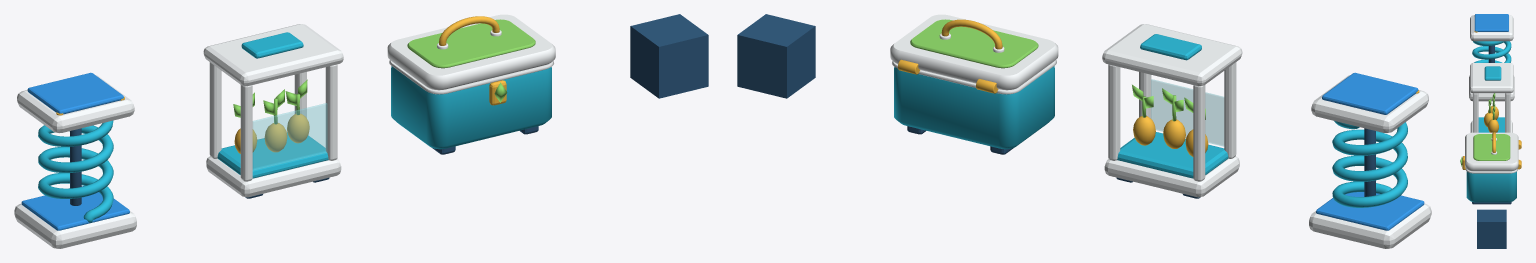
File: pop-a-peg-blender-pilots.glb
3 renders of one model, left to right at view 1: azimuth 30°, elevation 25°; view 2: azimuth 150°, elevation 25°; view 3: azimuth 270°, elevation 25°, orthographic. The views are drawn at different scales.
Visible parts, largest first — view 1: chest_common__MeadowBody_export, seed_bank__SeedBank_Frame_export, calibration__Calibration_1Stud_export, chest_common__PearlLid_export, seed_bank__SeedBank_Cap_export, spring_coil__ContinuousWaveCoil_export, seed_bank__SeedBank_Window_export, chest_common__MeadowLidInset_export, seed_bank__SeedBank_Reservoir_export, spring_coil__BlueImpactPad_export, spring_coil__PearlFoot_export, spring_coil__PearlImpactCap_export (+7 smaller); view 2: chest_common__MeadowBody_export, seed_bank__SeedBank_Frame_export, calibration__Calibration_1Stud_export, seed_bank__SeedBank_Cap_export, chest_common__PearlLid_export, spring_coil__ContinuousWaveCoil_export, chest_common__MeadowLidInset_export, seed_bank__SeedBank_Reservoir_export, spring_coil__BlueImpactPad_export, spring_coil__PearlFoot_export, spring_coil__PearlImpactCap_export, seed_bank__SeedBank_Window_export (+8 smaller); view 3: chest_common__MeadowBody_export, calibration__Calibration_1Stud_export, chest_common__PearlLid_export, seed_bank__SeedBank_Cap_export, chest_common__MeadowLidInset_export, spring_coil__ContinuousWaveCoil_export, spring_coil__BlueImpactPad_export, spring_coil__PearlImpactCap_export, seed_bank__SeedBank_Frame_export, spring_coil__PearlFoot_export, seed_bank__SeedBank_Pods_export, seed_bank__SeedBank_Grip_export (+7 smaller).
Part boxes in pixels (x1,y1,x2,y2): chest_common__MeadowBody_export: (391,66,551,149); seed_bank__SeedBank_Frame_export: (206,62,341,197); calibration__Calibration_1Stud_export: (630,14,708,98); chest_common__PearlLid_export: (387,14,555,90); seed_bank__SeedBank_Cap_export: (203,24,343,86); spring_coil__ContinuousWaveCoil_export: (38,120,113,222); seed_bank__SeedBank_Window_export: (253,103,327,170); chest_common__MeadowLidInset_export: (407,19,535,68); seed_bank__SeedBank_Reservoir_export: (217,132,328,178); spring_coil__BlueImpactPad_export: (27,72,123,114); spring_coil__PearlFoot_export: (14,203,136,248); spring_coil__PearlImpactCap_export: (17,75,134,133); chest_common__MeadowBody_export: (894,66,1054,149); seed_bank__SeedBank_Frame_export: (1104,62,1239,197); calibration__Calibration_1Stud_export: (737,14,815,98); seed_bank__SeedBank_Cap_export: (1102,24,1242,86); chest_common__PearlLid_export: (890,14,1058,90); spring_coil__ContinuousWaveCoil_export: (1332,121,1407,207); chest_common__MeadowLidInset_export: (910,19,1038,68); seed_bank__SeedBank_Reservoir_export: (1117,132,1228,178); spring_coil__BlueImpactPad_export: (1322,72,1418,114); spring_coil__PearlFoot_export: (1309,203,1431,248); spring_coil__PearlImpactCap_export: (1311,75,1428,133); seed_bank__SeedBank_Window_export: (1151,79,1223,146); chest_common__MeadowBody_export: (1466,171,1516,202); calibration__Calibration_1Stud_export: (1477,209,1506,248); chest_common__PearlLid_export: (1465,132,1518,171); seed_bank__SeedBank_Cap_export: (1470,63,1513,93); chest_common__MeadowLidInset_export: (1473,134,1510,160); spring_coil__ContinuousWaveCoil_export: (1472,41,1511,62); spring_coil__BlueImpactPad_export: (1474,14,1508,31); spring_coil__PearlImpactCap_export: (1470,15,1513,41); seed_bank__SeedBank_Frame_export: (1470,93,1512,132); spring_coil__PearlFoot_export: (1469,75,1514,101); seed_bank__SeedBank_Pods_export: (1484,106,1498,132); seed_bank__SeedBank_Grip_export: (1484,66,1501,80).
Size of the model in its own units: 3.74 by 0.7336 by 0.5814.
